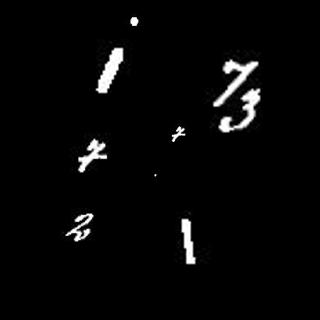dot: (129, 13, 141, 27), (152, 169, 158, 177)
one: (94, 44, 125, 96), (181, 216, 196, 266)
seven: (213, 56, 259, 108), (77, 138, 111, 172), (170, 123, 186, 144)
three: (220, 93, 267, 134)
two: (65, 210, 97, 237)
